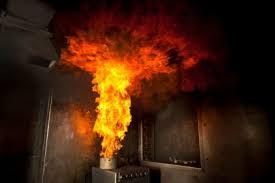fire: (64, 7, 199, 163)
